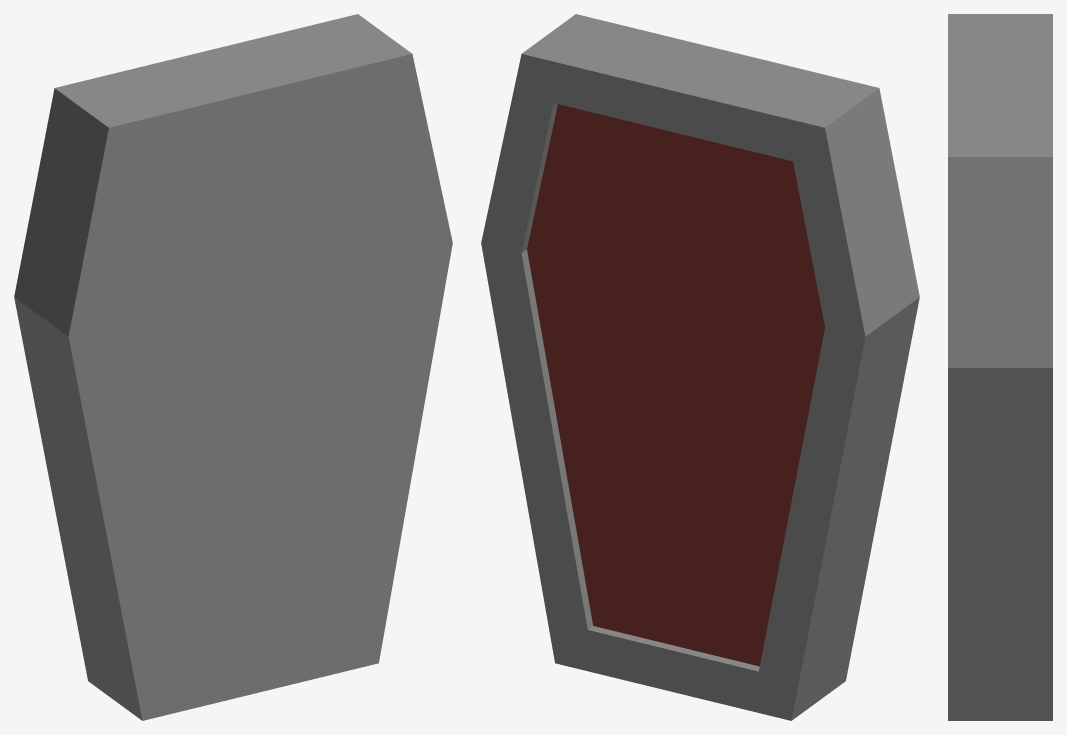
Rendered from riot-plate-robin-lamb-shield.glb.
3 renders of one model, left to right at view 1: azimuth 30°, elevation 25°; view 2: azimuth 150°, elevation 25°; view 3: azimuth 270°, elevation 25°, orthographic. The views are drawn at different scales.
Parts seen in each view (by area): view 1: Plane; view 2: Plane; view 3: Plane.
Part boxes in pixels (left/top/right/bottom): Plane: left=14, top=14, right=452, bottom=720; Plane: left=481, top=14, right=919, bottom=720; Plane: left=948, top=14, right=1052, bottom=720.
Bounding box in the file's own units: 2 × 2.99 × 0.4906.
